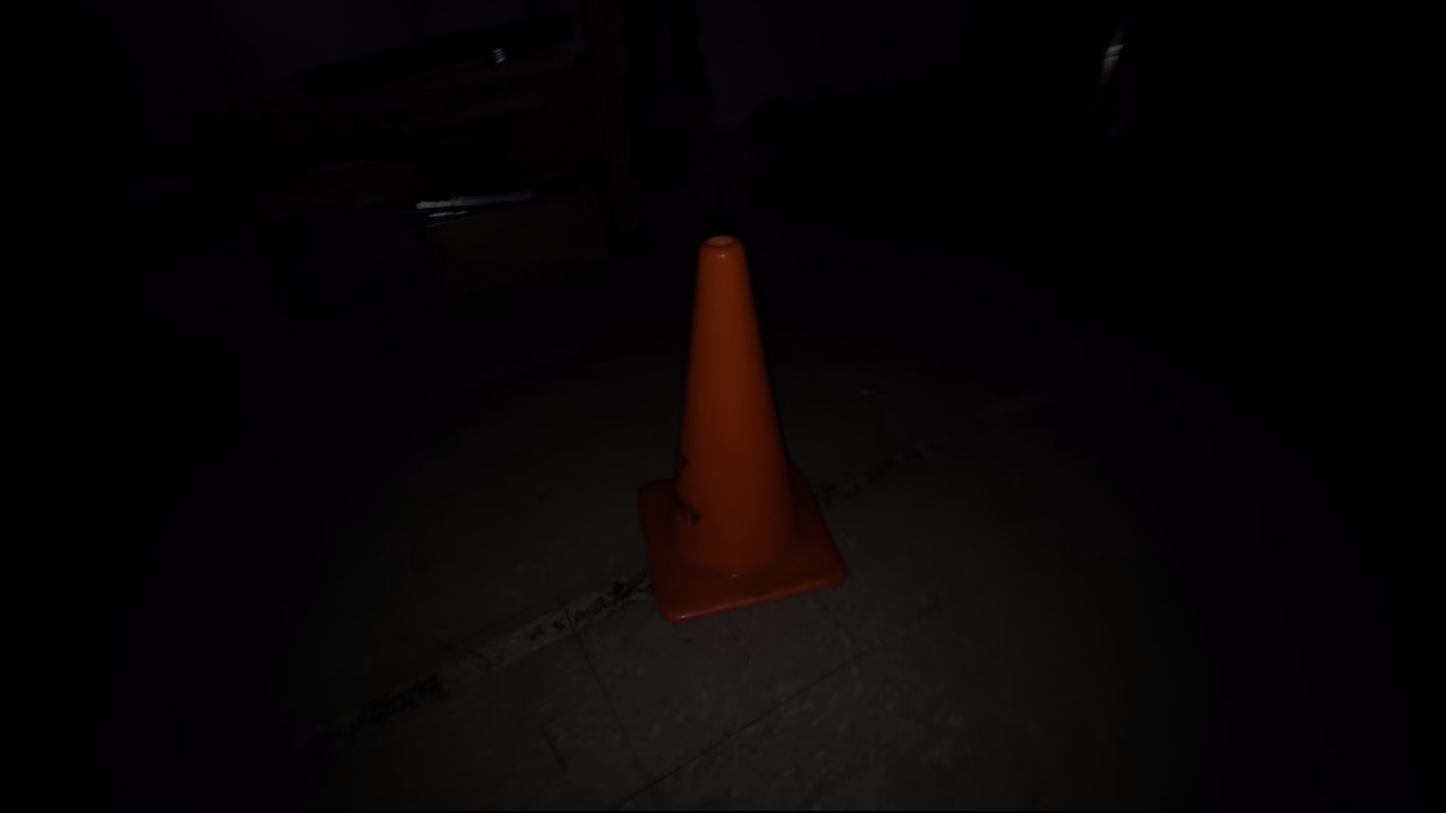traffic_cone: (637, 233, 848, 623)
